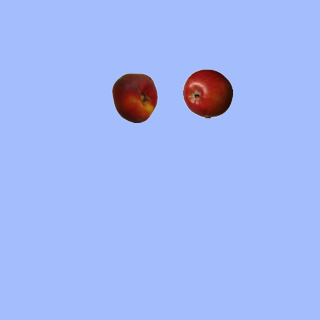Apple Braeburn: (182, 68, 232, 118)
Nectarine Flat: (109, 72, 159, 122)
